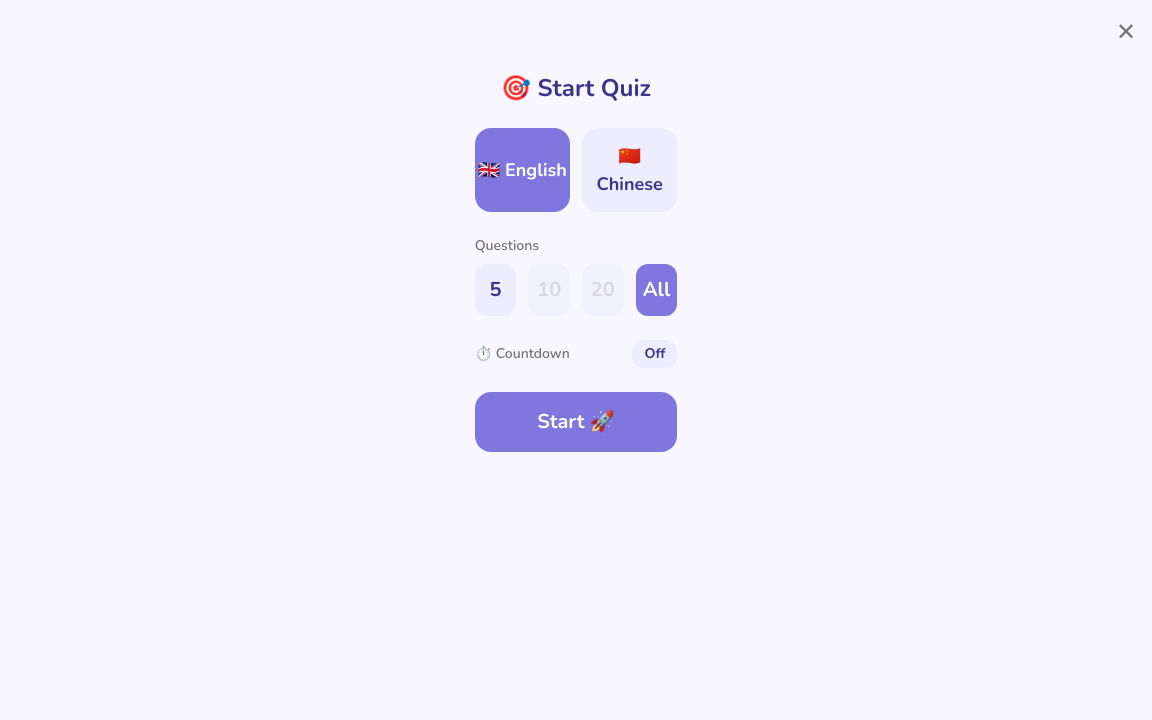
Test: QuizMode — Lobby › hides interval options when countdown is toggled back Off
Click the button "Off" at (655, 354), box 632,340 -> 677,368
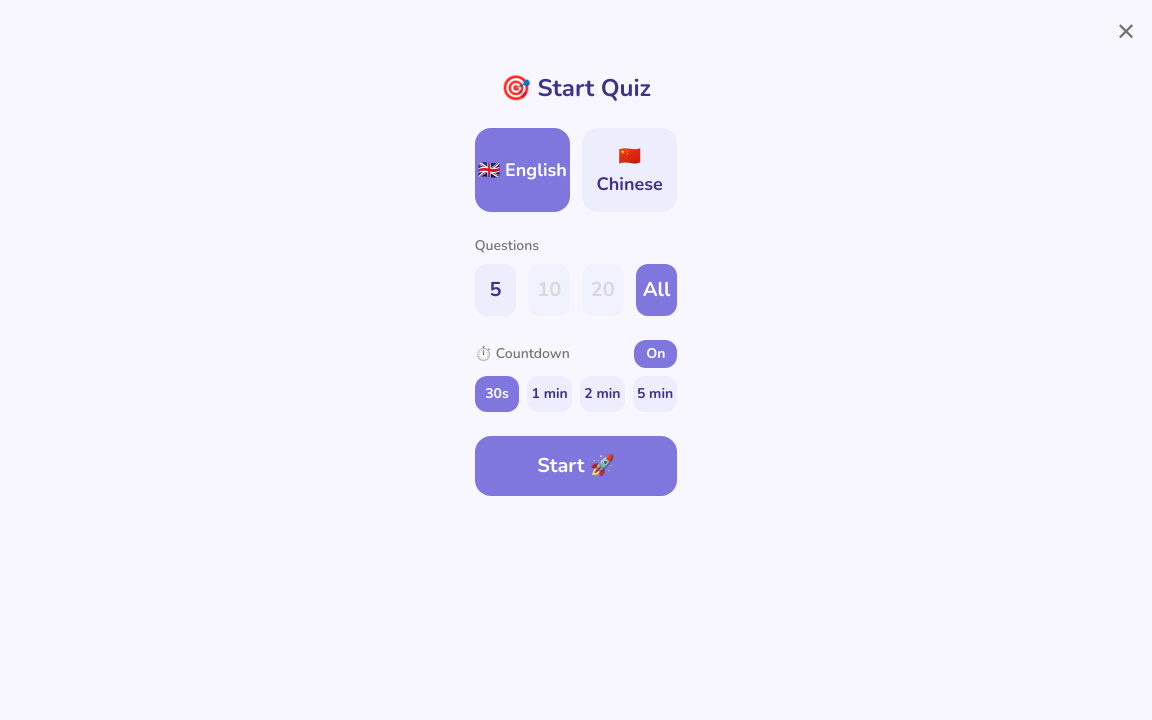
expect the button "30s" is shown: met, box 475,376 -> 519,412
Click the button "On" at (656, 354), box 634,340 -> 677,368
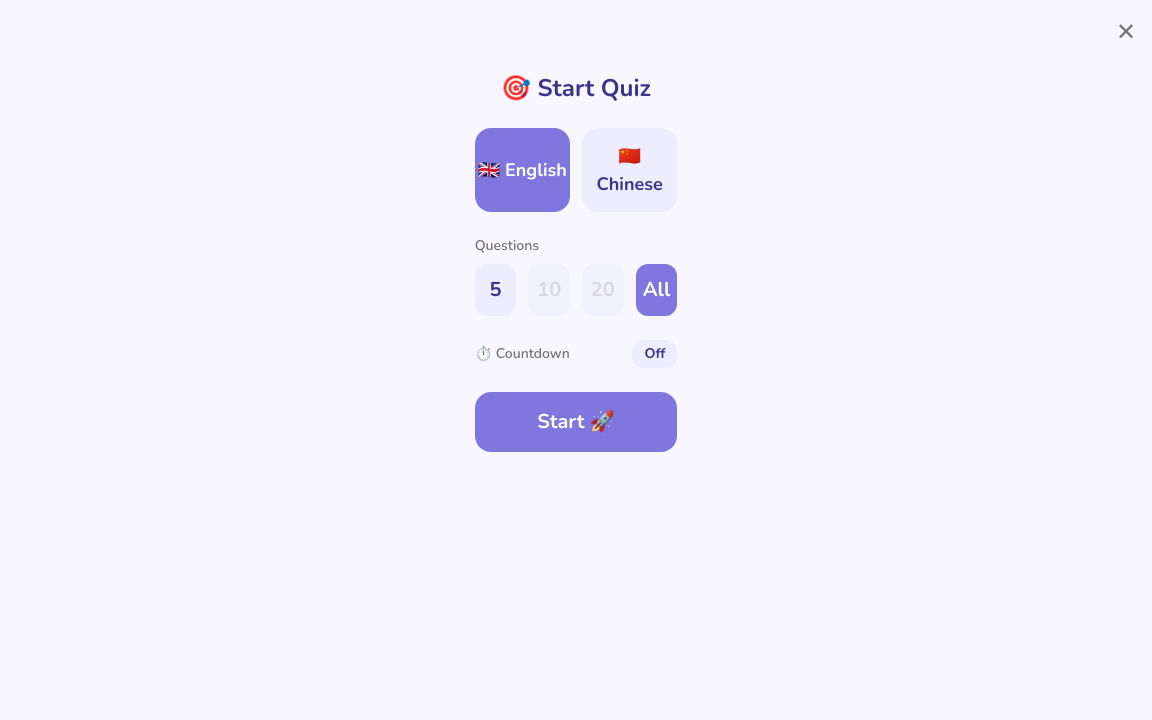
expect the button "30s" is gone: met
